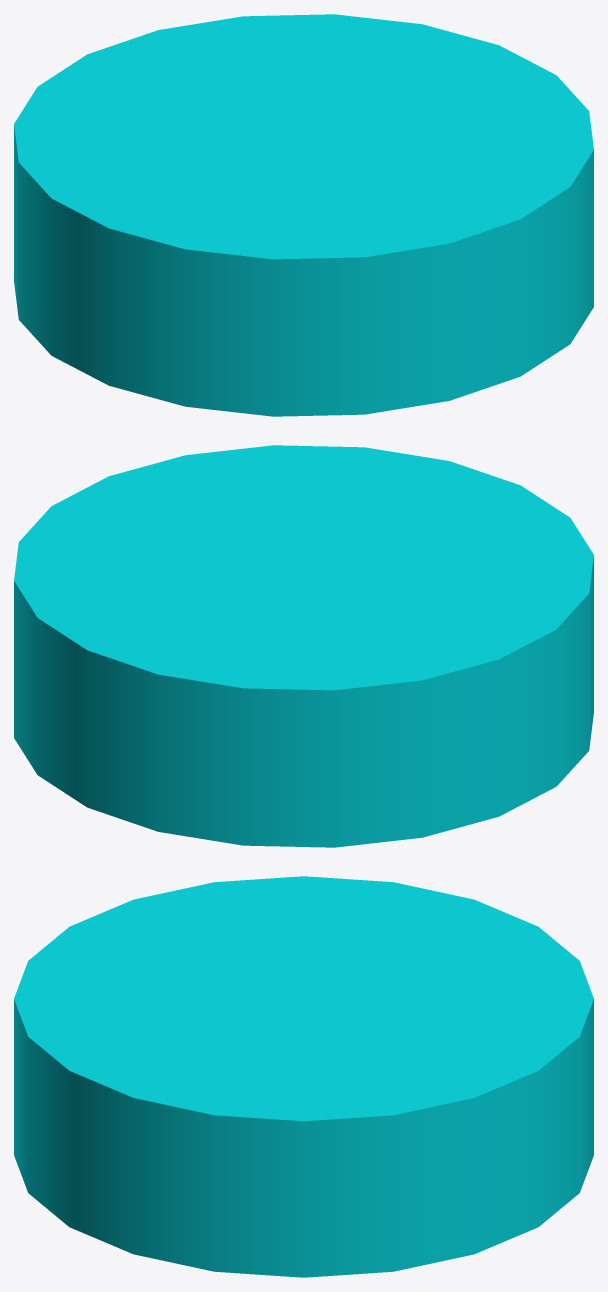
File: Blue Coin U.fbx
The picture shows the model from 3 angles, top to bottom: view 1: azimuth 30°, elevation 25°; view 2: azimuth 150°, elevation 25°; view 3: azimuth 270°, elevation 25°; orthographic projection.
Visible parts, largest first — view 1: pCylinder1; view 2: pCylinder1; view 3: pCylinder1.
Part boxes in pixels (box(x1,y1,x2,y2)): pCylinder1: box(14, 14, 593, 416); pCylinder1: box(14, 445, 593, 847); pCylinder1: box(14, 876, 593, 1277).
Size of the model in its own units: 2 by 0.5952 by 2.
